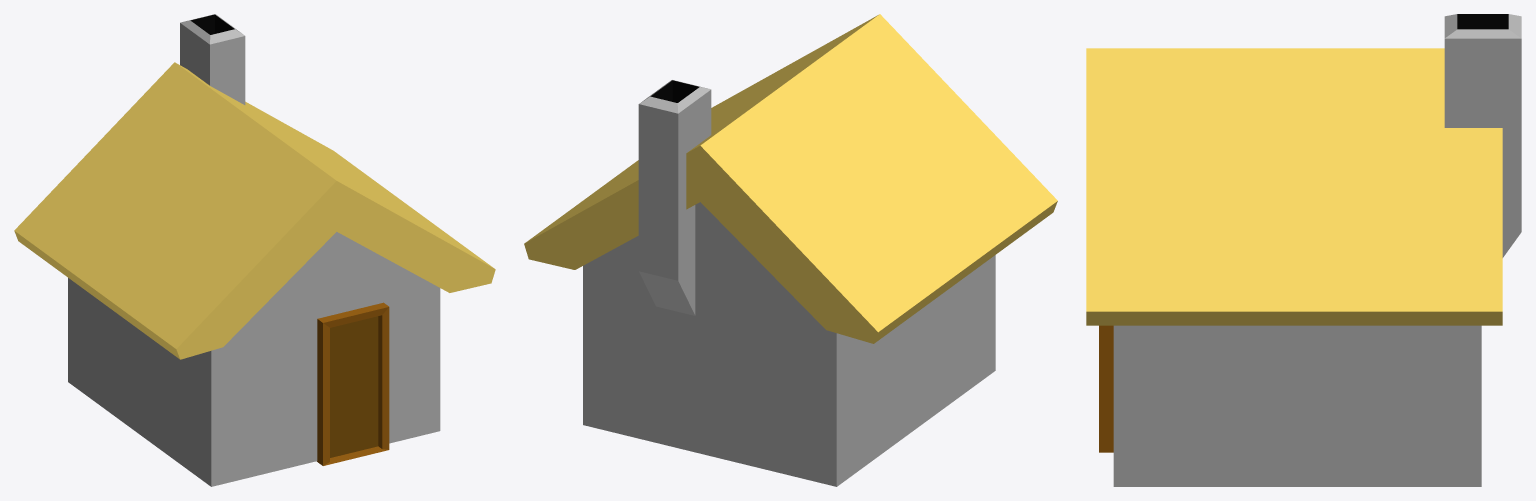
File: low_poly_house_2.glb
The picture shows the model from 3 angles, left to right: view 1: azimuth 30°, elevation 25°; view 2: azimuth 150°, elevation 25°; view 3: azimuth 270°, elevation 25°; orthographic projection. The views are drawn at different scales.
Parts seen in each view (by area): view 1: roof, walls, door, door_frame, chimney, chimney_inner; view 2: roof, walls, chimney, chimney_inner; view 3: roof, walls, chimney, door_frame, chimney_inner.
Boxes of the visible parts, bbox=[...] form: roof: bbox=[14, 62, 495, 359]; walls: bbox=[68, 232, 440, 486]; door: bbox=[330, 316, 378, 457]; door_frame: bbox=[317, 302, 389, 465]; chimney: bbox=[180, 14, 245, 104]; chimney_inner: bbox=[190, 14, 234, 34]; roof: bbox=[524, 14, 1057, 343]; walls: bbox=[583, 202, 995, 486]; chimney: bbox=[638, 80, 711, 315]; chimney_inner: bbox=[650, 80, 699, 102]; roof: bbox=[1086, 48, 1502, 325]; walls: bbox=[1113, 325, 1481, 486]; chimney: bbox=[1444, 14, 1521, 257]; door_frame: bbox=[1099, 325, 1113, 452]; chimney_inner: bbox=[1457, 14, 1508, 29].
Size of the model in its own units: 4.79 by 4.62 by 4.4.
